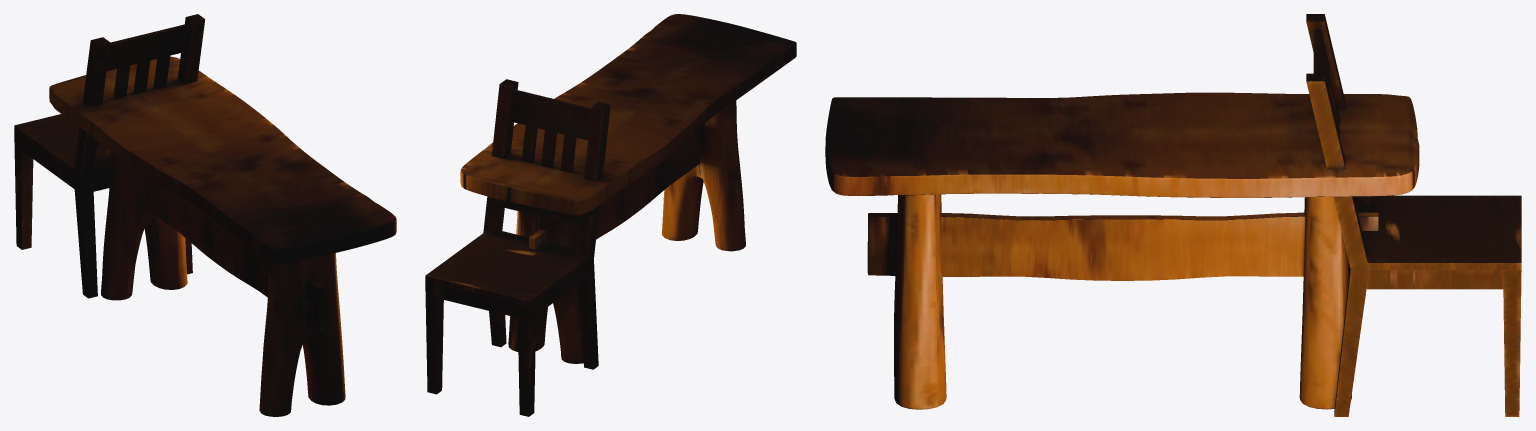
Rendered from table.glb.
3 renders of one model, left to right at view 1: azimuth 30°, elevation 25°; view 2: azimuth 150°, elevation 25°; view 3: azimuth 270°, elevation 25°, orthographic. The views are drawn at different scales.
Size of the model in its own units: 9.68 by 17.5 by 32.81.
1 material, 1 textured.
